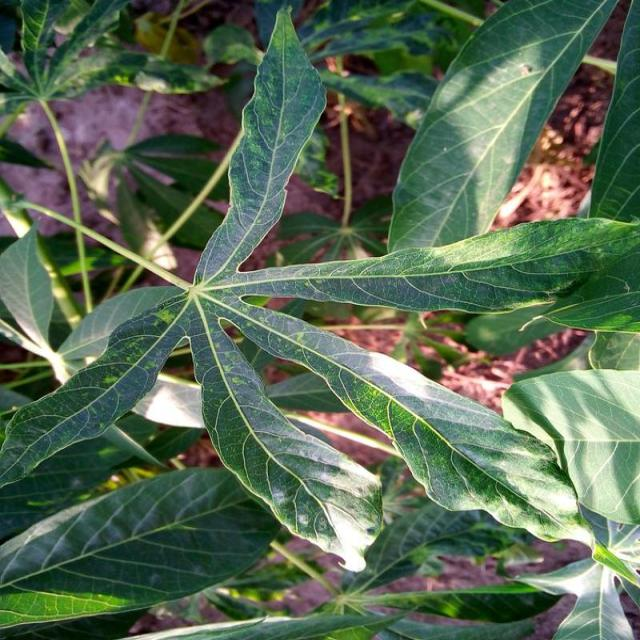cassava leaf: (2, 3, 638, 633), (386, 0, 620, 255)
